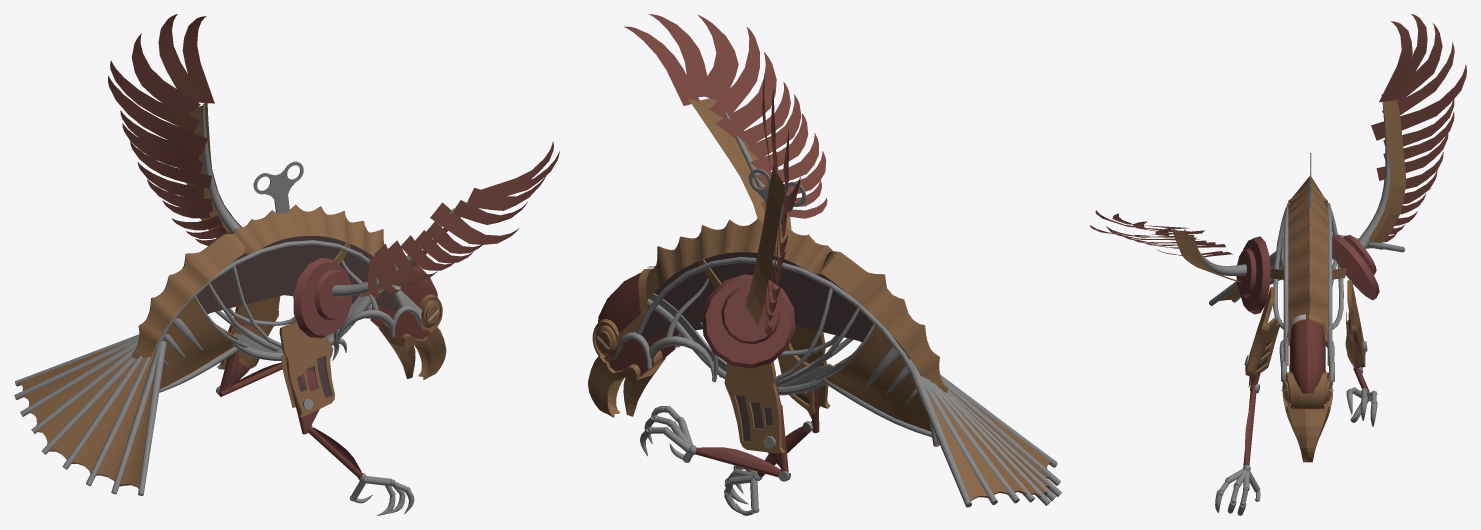
The model's file is hawk2.fbx.
The picture shows the model from 3 angles, left to right: view 1: azimuth 30°, elevation 25°; view 2: azimuth 150°, elevation 25°; view 3: azimuth 270°, elevation 25°; orthographic projection. The views are drawn at different scales.
Parts seen in each view (by area): view 1: polySurface308, pCube419, polySurface287, polySurface305, group108_pCylinder86, pCube422; view 2: polySurface308, polySurface287, pCube419, polySurface305, group108_pCylinder86, pCube422; view 3: polySurface308, pCube419, polySurface287, group108_pCylinder86, pCube422.
Boxes of the visible parts, x1=… form: polySurface308: x1=19, y1=101, x2=460, y2=488; pCube419: x1=108, y1=14, x2=559, y2=297; polySurface287: x1=14, y1=104, x2=455, y2=515; polySurface305: x1=196, y1=235, x2=398, y2=397; group108_pCylinder86: x1=226, y1=257, x2=361, y2=472; pCube422: x1=218, y1=264, x2=437, y2=478; polySurface308: x1=588, y1=98, x2=1051, y2=500; polySurface287: x1=613, y1=112, x2=1061, y2=515; pCube419: x1=624, y1=14, x2=827, y2=335; polySurface305: x1=643, y1=252, x2=905, y2=441; group108_pCylinder86: x1=699, y1=274, x2=820, y2=471; pCube422: x1=598, y1=268, x2=819, y2=479; polySurface308: x1=1172, y1=100, x2=1405, y2=462; pCube419: x1=1090, y1=14, x2=1466, y2=257; polySurface287: x1=1183, y1=103, x2=1405, y2=515; group108_pCylinder86: x1=1236, y1=235, x2=1379, y2=462; pCube422: x1=1243, y1=320, x2=1369, y2=465.
Size of the model in its own units: 32.4 by 32.67 by 24.96.
